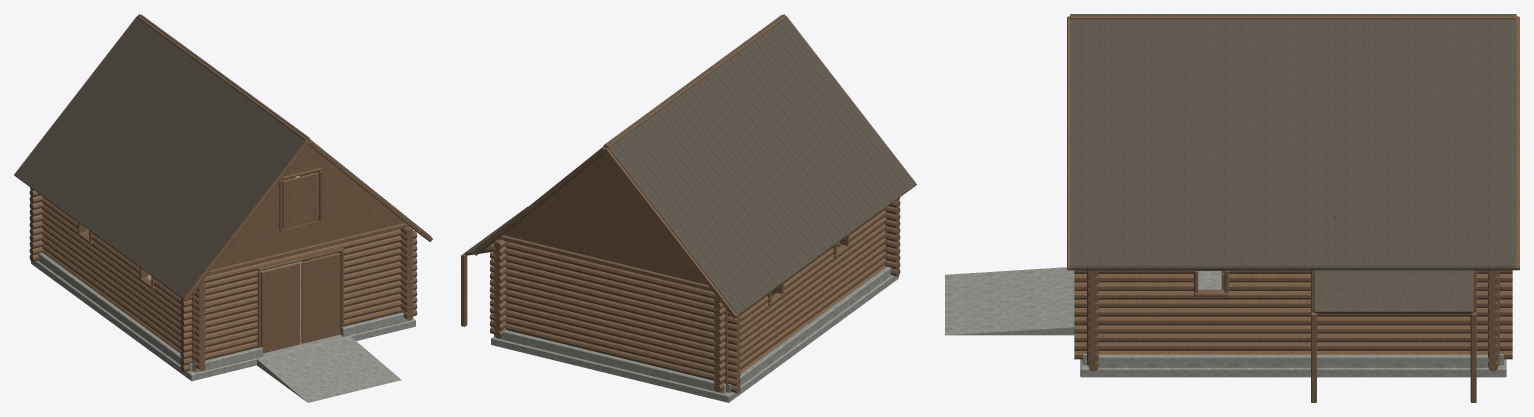
The picture shows the model from 3 angles, left to right: view 1: azimuth 30°, elevation 25°; view 2: azimuth 150°, elevation 25°; view 3: azimuth 270°, elevation 25°; orthographic projection. The views are drawn at different scales.
Parts seen in each view (by area): view 1: B01_roof_left, B01_wall_front, B01_wall_left, B01_foundation, B01_gable_front, B01_entry_leaf1, B01_entry_leaf0, B01_verge_-1_-1, B01_hay_hatch_leaf0, B01_stonecourse_left, B01_stonecourse_front, B01_wall_right (+2 smaller); view 2: B01_roof_left, B01_wall_rear, B01_gable_rear, B01_wall_left, B01_foundation, B01_stonecourse_rear, B01_verge_1_-1, B01_stonecourse_left, B01_wall_right, B01_ridge, B01_wall_front, B01_canopy_post_4_0.5; view 3: B01_roof_right, B01_wall_right, B01_foundation, B01_canopy, B01_stonecourse_right, B01_ridge, B01_canopy_post_4_0.5, B01_wall_front, B01_wall_rear, B01_verge_1_-1, B01_verge_-1_-1.
Boxes of the visible parts, x1,y1,x2,y2 form: B01_roof_left: [15, 14, 307, 298]; B01_wall_front: [180, 167, 417, 372]; B01_wall_left: [42, 196, 205, 371]; B01_foundation: [31, 260, 415, 402]; B01_gable_front: [212, 145, 404, 269]; B01_entry_leaf1: [301, 253, 340, 343]; B01_entry_leaf0: [261, 262, 300, 353]; B01_verge_-1_-1: [182, 139, 432, 301]; B01_hay_hatch_leaf0: [282, 172, 319, 228]; B01_stonecourse_left: [38, 252, 192, 371]; B01_stonecourse_front: [194, 312, 408, 372]; B01_wall_right: [285, 172, 413, 320]; B01_roof_left: [605, 14, 915, 315]; B01_wall_rear: [489, 235, 740, 393]; B01_gable_rear: [503, 153, 707, 284]; B01_wall_left: [714, 207, 887, 392]; B01_foundation: [491, 275, 898, 402]; B01_stonecourse_rear: [498, 330, 725, 393]; B01_verge_1_-1: [473, 147, 738, 318]; B01_stonecourse_left: [727, 266, 891, 392]; B01_wall_right: [494, 239, 507, 338]; B01_ridge: [603, 15, 786, 148]; B01_wall_front: [837, 197, 900, 276]; B01_canopy_post_4_0.5: [461, 253, 467, 326]; B01_roof_right: [1070, 14, 1516, 270]; B01_wall_right: [1074, 270, 1512, 359]; B01_foundation: [945, 267, 1506, 377]; B01_canopy: [1314, 270, 1473, 313]; B01_stonecourse_right: [1088, 354, 1498, 367]; B01_ridge: [1070, 14, 1516, 20]; B01_canopy_post_4_0.5: [1311, 270, 1476, 402]; B01_wall_front: [1087, 270, 1098, 371]; B01_wall_rear: [1488, 270, 1499, 371]; B01_verge_1_-1: [1514, 16, 1519, 270]; B01_verge_-1_-1: [1067, 16, 1072, 270].
Size of the model in its own units: 10.31 by 7.84 by 14.02.
5 materials, 4 textured.
